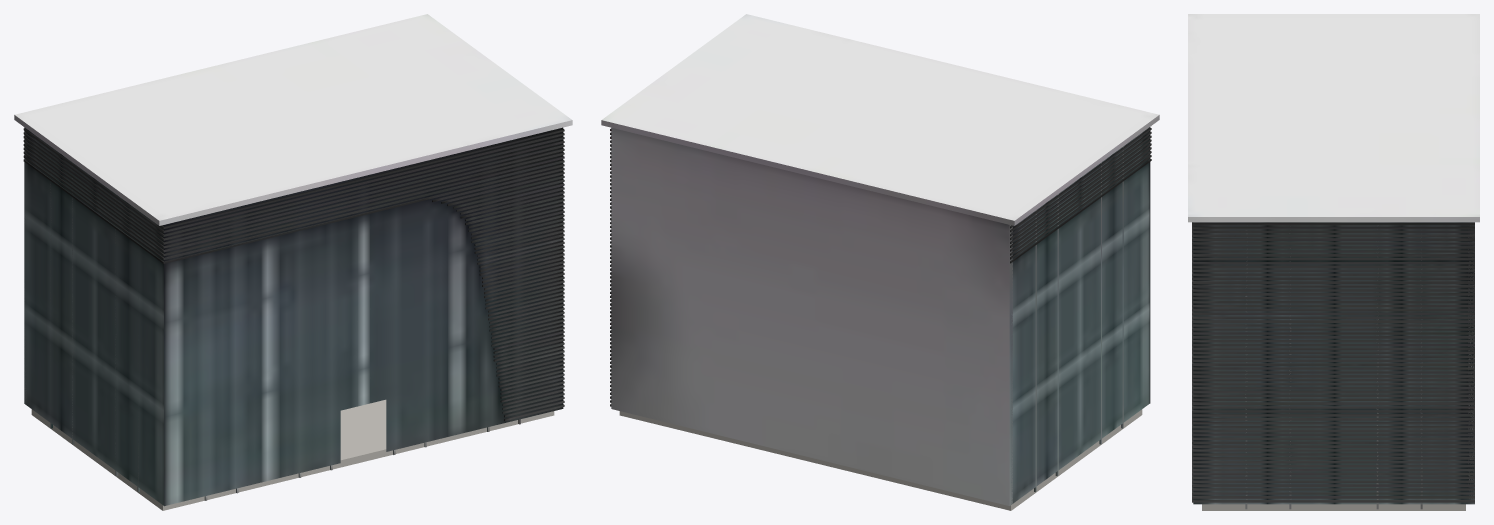
File: car-showroom.zfix-v3.lod0.glb
The picture shows the model from 3 angles, left to right: view 1: azimuth 30°, elevation 25°; view 2: azimuth 150°, elevation 25°; view 3: azimuth 270°, elevation 25°; orthographic projection.
Visible parts, largest first — view 1: Object001_Object001_mtl_0, Walkable floors and stairs; view 2: Object001_Object001_mtl_0, Walkable floors and stairs; view 3: Object001_Object001_mtl_0, Walkable floors and stairs.
Part boxes in pixels (bbox=[...]): Object001_Object001_mtl_0: bbox=[14, 14, 572, 506]; Walkable floors and stairs: bbox=[31, 399, 554, 510]; Object001_Object001_mtl_0: bbox=[601, 14, 1159, 505]; Walkable floors and stairs: bbox=[619, 409, 1142, 510]; Object001_Object001_mtl_0: bbox=[1188, 14, 1479, 509]; Walkable floors and stairs: bbox=[1202, 504, 1465, 510].
Size of the model in its own units: 18 by 12.39 by 10.94.
Materials: 4 (1 with a texture image).
